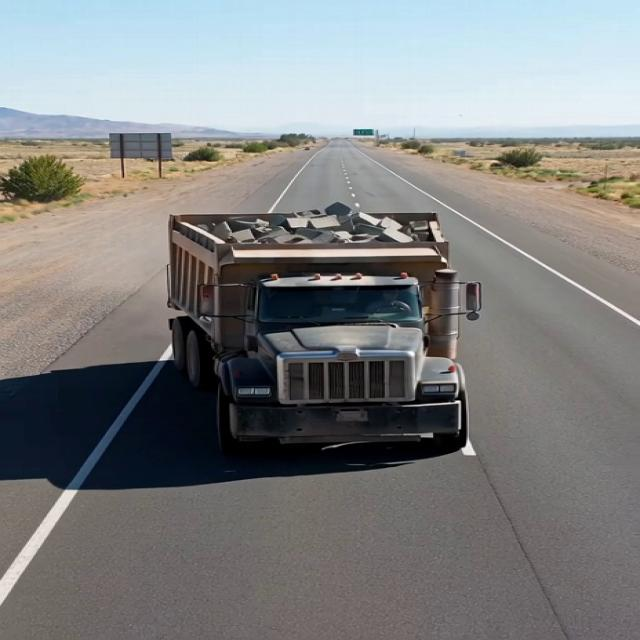Box: (161, 207, 493, 260)
Truck: (143, 183, 508, 458)
